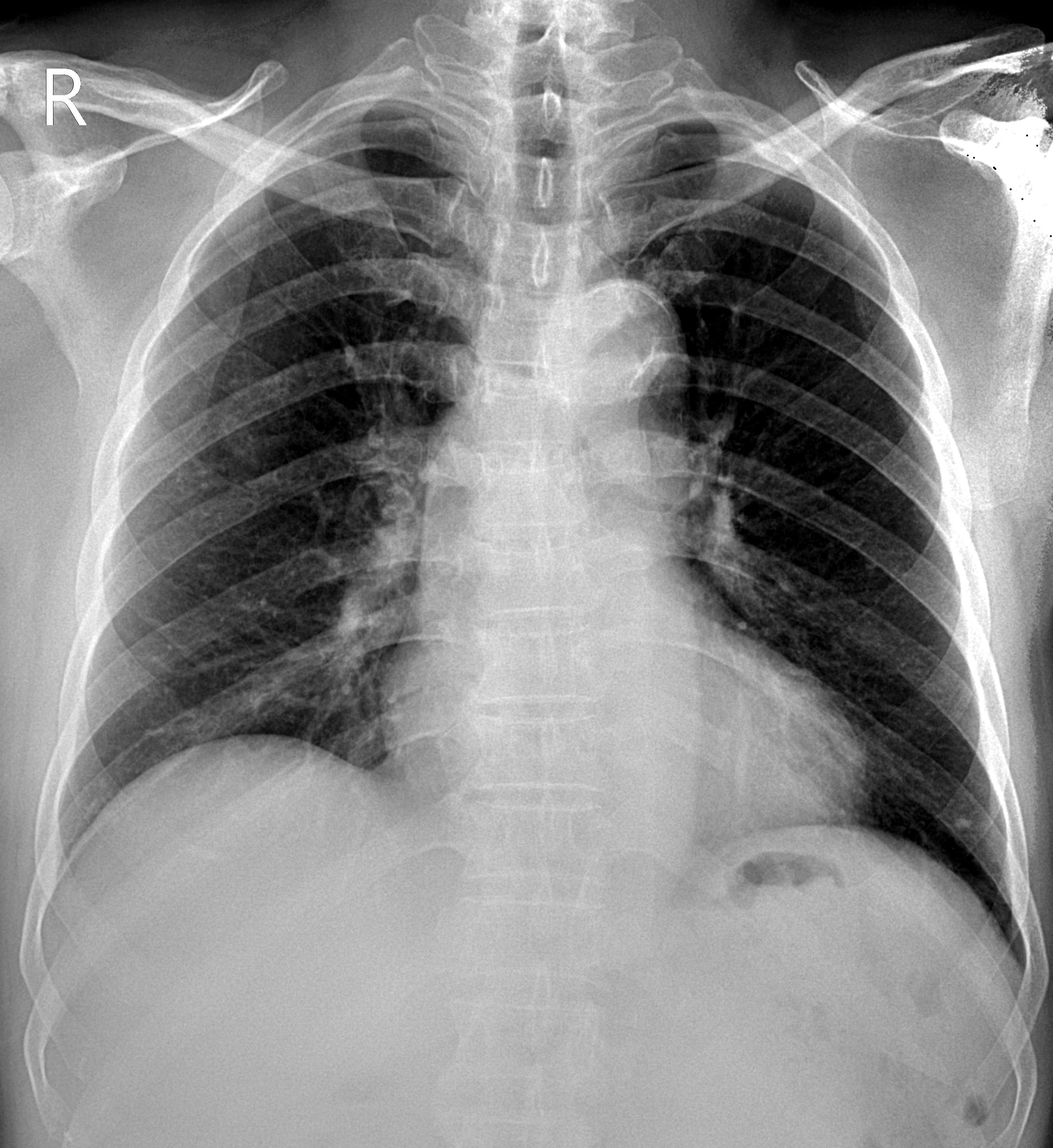Aortic enlargement: (559, 276, 689, 406)
Cardiomegaly: (374, 658, 874, 815)
